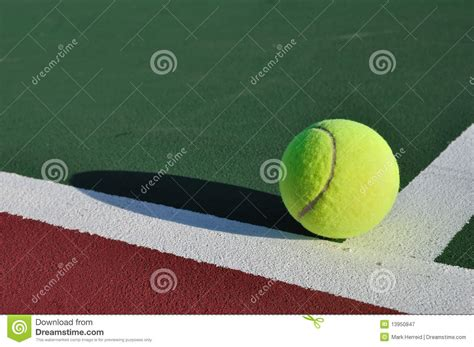tennis_ball: (277, 118, 401, 238)
